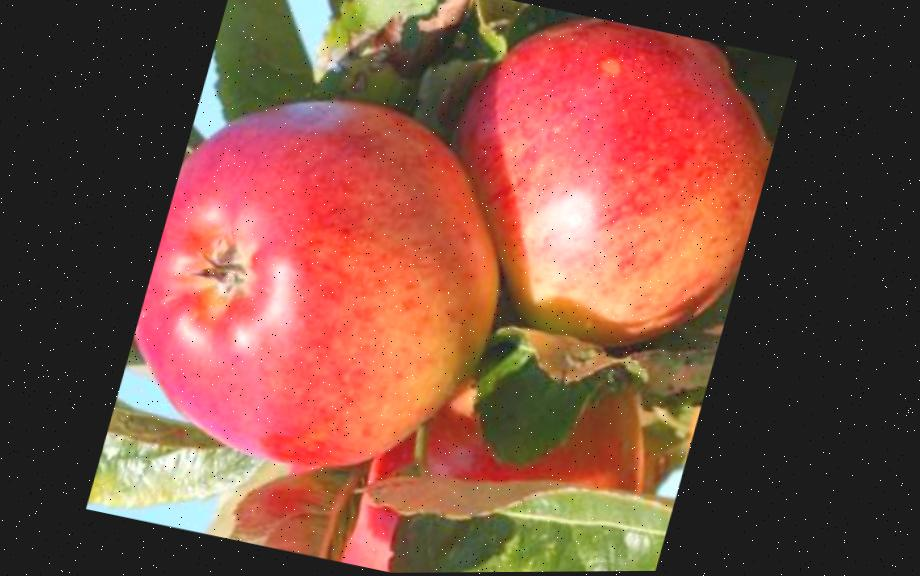HEALTHY: (102, 56, 529, 498), (438, 3, 801, 382)
